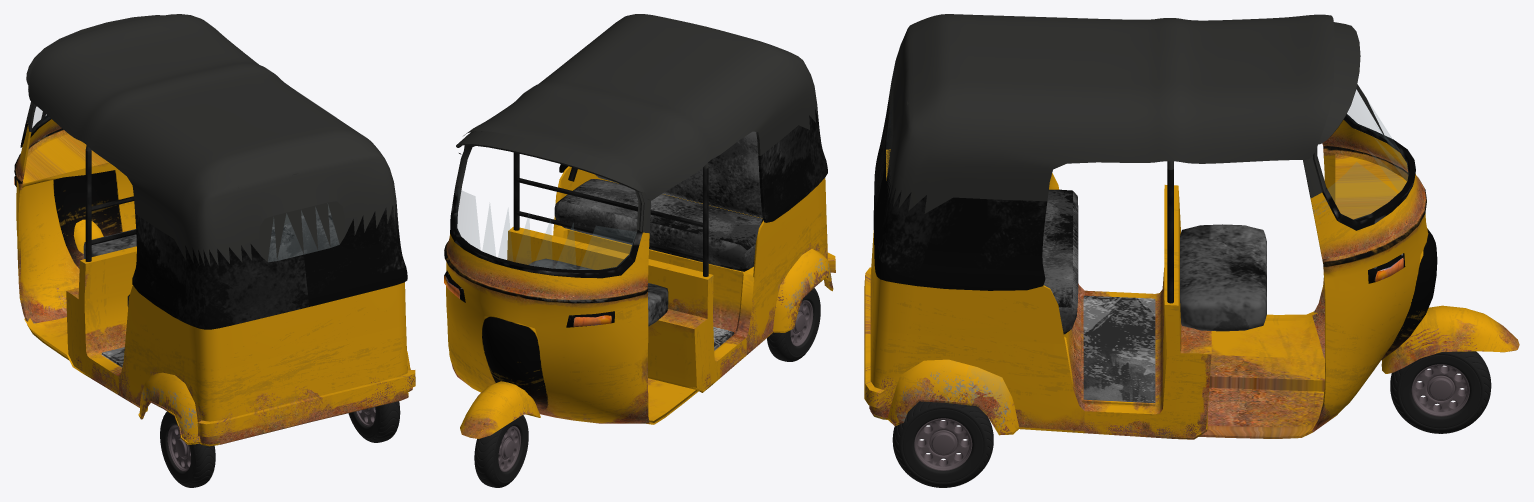
Rendered from colombo_tuk.glb.
The picture shows the model from 3 angles, left to right: view 1: azimuth 30°, elevation 25°; view 2: azimuth 150°, elevation 25°; view 3: azimuth 270°, elevation 25°; orthographic projection. The views are drawn at different scales.
Parts seen in each view (by area): view 1: Plane.002_Top_0_part_7, Plane.001_Body_01_0_part_0, Plane.003_Glass_0_part_8, Rin.001_Llanta_0_part_6, Rin.001_Llanta_0_part_5, Rin.001_Metal Rin_0_part_4; view 2: Plane.001_Body_01_0_part_0, Plane.002_Top_0_part_7, Plane.003_Glass_0_part_8, Rin_Llanta_0_part_2, Rin.001_Llanta_0_part_6, Rin_Metal Rin_0_part_1, Rin.001_Metal Rin_0_part_4; view 3: Plane.002_Top_0_part_7, Plane.001_Body_01_0_part_0, Rin.001_Llanta_0_part_5, Rin_Llanta_0_part_2, Plane.003_Glass_0_part_8, Rin_Metal Rin_0_part_1, Rin.001_Metal Rin_0_part_3.
Part boxes in pixels (x1,y1,x2,y2): Plane.002_Top_0_part_7: (28,14,407,329); Plane.001_Body_01_0_part_0: (14,15,415,446); Plane.003_Glass_0_part_8: (32,106,345,261); Rin.001_Llanta_0_part_6: (160,411,215,487); Rin.001_Llanta_0_part_5: (348,401,400,442); Rin.001_Metal Rin_0_part_4: (167,424,190,471); Plane.001_Body_01_0_part_0: (444,131,835,438); Plane.002_Top_0_part_7: (459,14,827,326); Plane.003_Glass_0_part_8: (456,189,636,269); Rin_Llanta_0_part_2: (474,415,528,487); Rin.001_Llanta_0_part_6: (767,288,820,361); Rin_Metal Rin_0_part_1: (498,426,520,471); Rin.001_Metal Rin_0_part_4: (790,300,813,346); Plane.002_Top_0_part_7: (873,14,1334,334); Plane.001_Body_01_0_part_0: (864,22,1519,439); Rin.001_Llanta_0_part_5: (892,401,993,487); Rin_Llanta_0_part_2: (1390,351,1491,433); Plane.003_Glass_0_part_8: (886,84,1408,219); Rin_Metal Rin_0_part_1: (1411,364,1469,416); Rin.001_Metal Rin_0_part_3: (914,418,972,470).
Size of the model in its own units: 1.3 by 1.7 by 2.63.
Materials: 6 (2 with a texture image).
